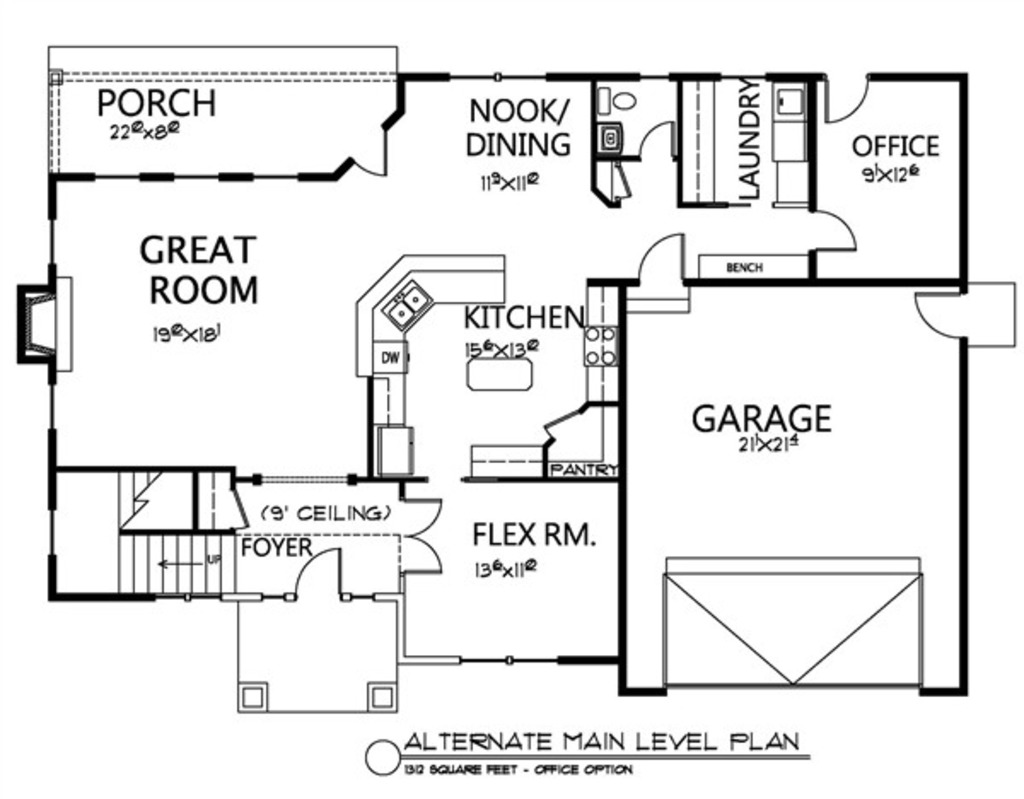door: (633, 229, 697, 291), (281, 548, 354, 601), (398, 495, 445, 574), (633, 111, 681, 166), (918, 291, 973, 338), (822, 75, 870, 124), (346, 130, 393, 177), (810, 207, 856, 251), (536, 402, 582, 437)
kitchen_bar: (462, 340, 559, 402)
large_sink: (596, 77, 631, 116)
stairs: (56, 474, 241, 592)
twin_sink: (366, 278, 444, 339)
window: (446, 65, 545, 85), (459, 649, 552, 666), (40, 208, 68, 260)
